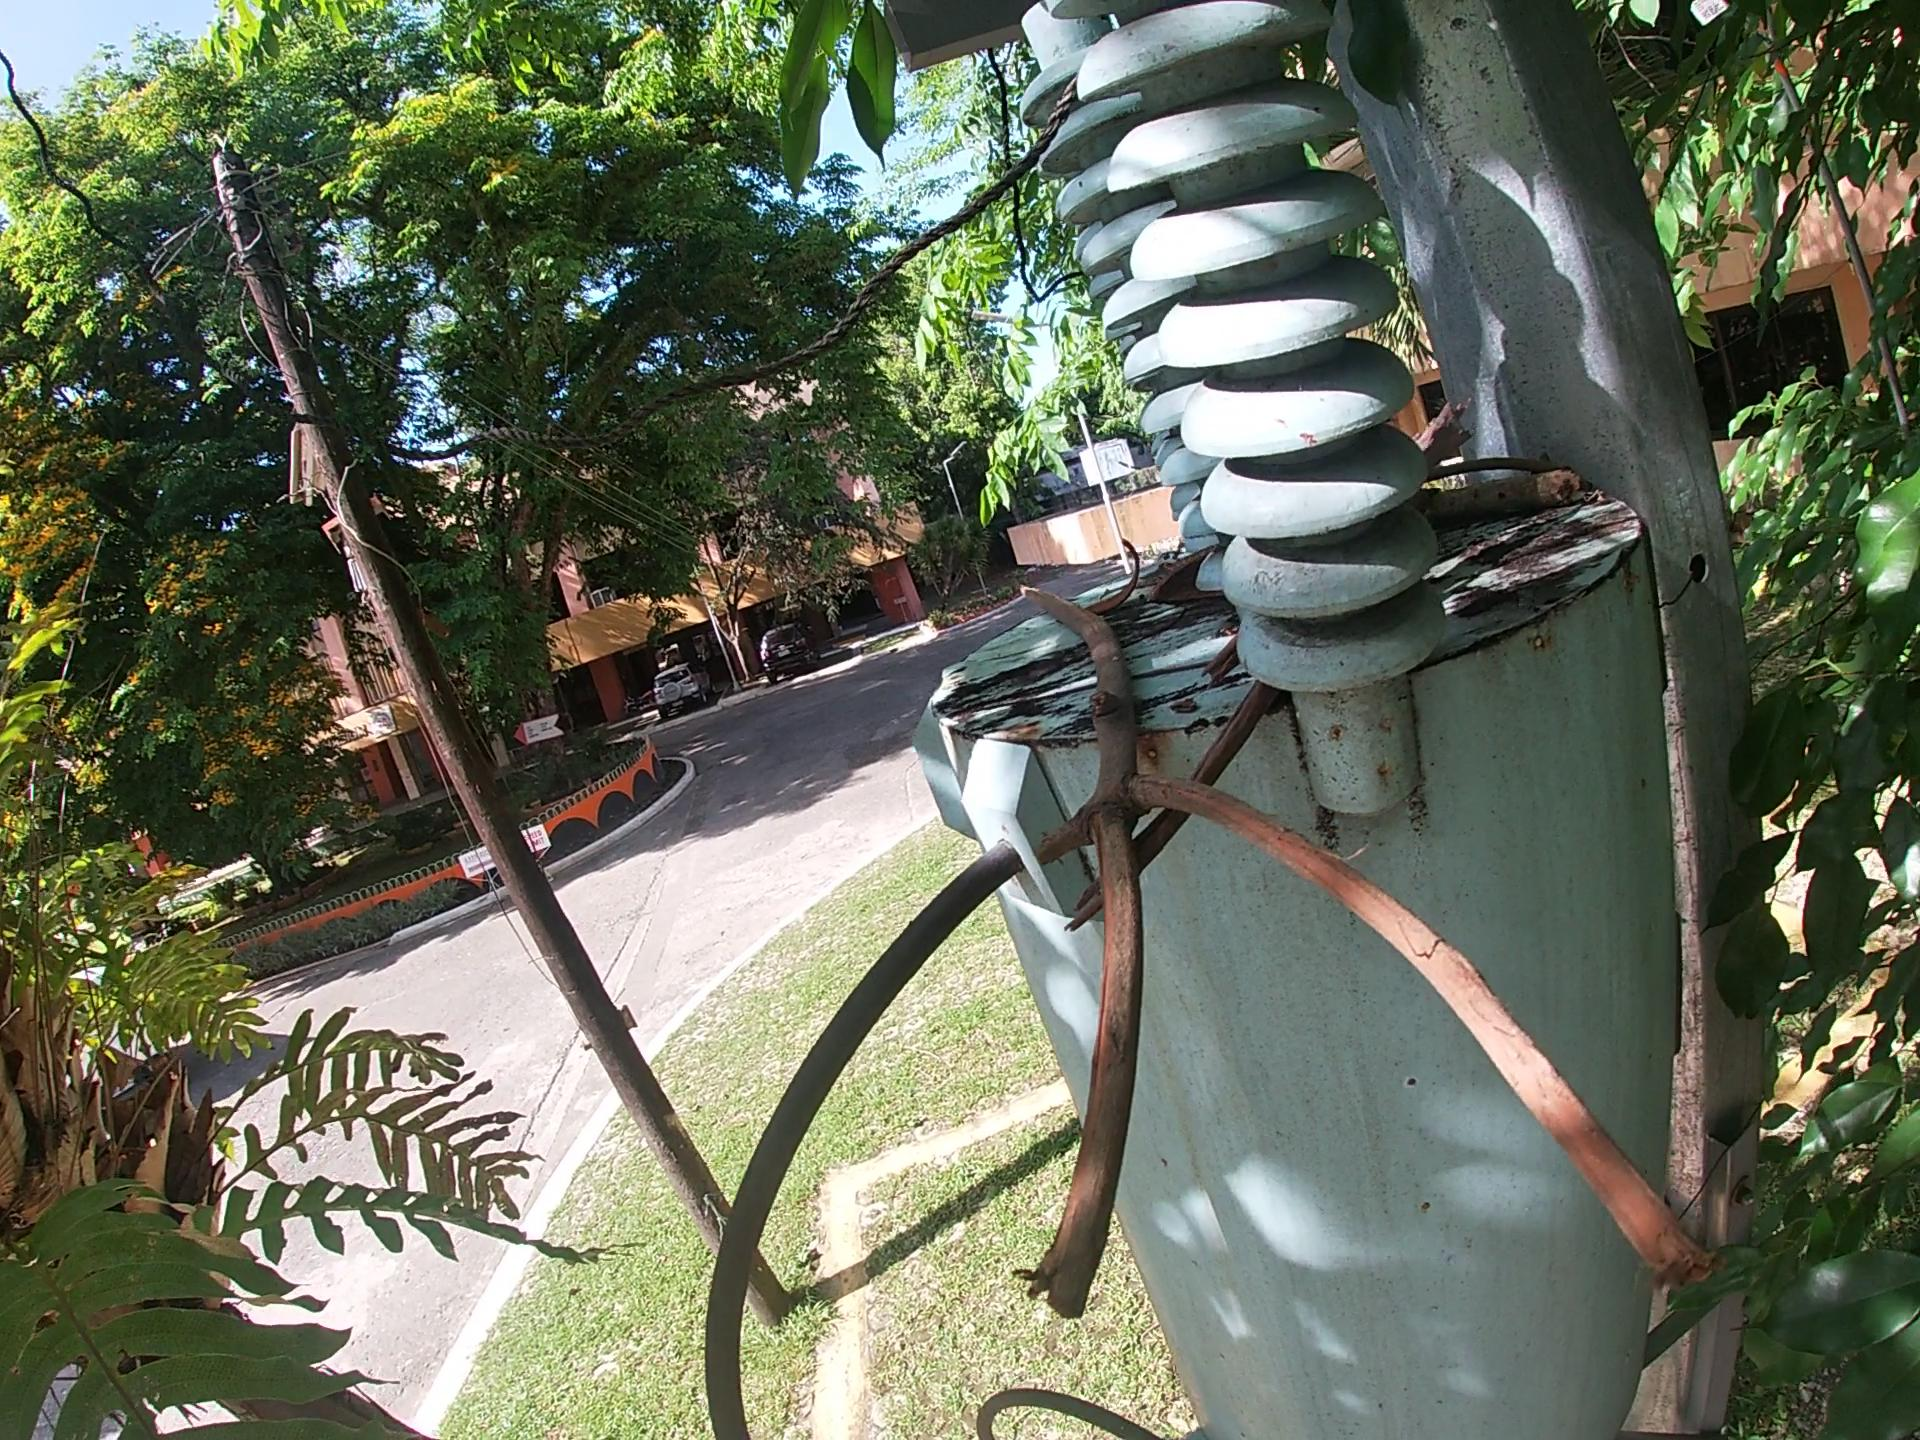mahogany fruit: (1092, 535, 1154, 619), (1141, 548, 1217, 613)
tree branch: (992, 573, 1720, 1328), (1042, 635, 1297, 936), (1417, 451, 1606, 529)
